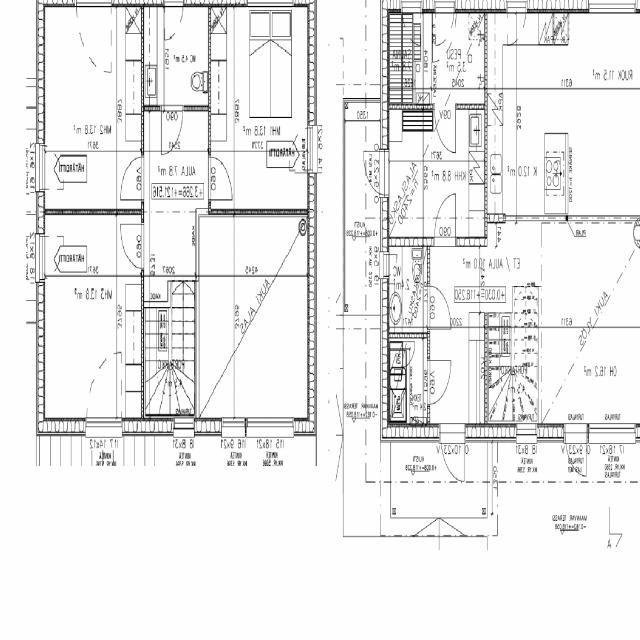door: (440, 424, 465, 494), (564, 423, 586, 487), (358, 150, 389, 195), (118, 223, 144, 269), (435, 193, 456, 247), (427, 360, 452, 404), (161, 106, 183, 156), (208, 156, 232, 200), (435, 103, 456, 153), (427, 285, 451, 328), (120, 156, 144, 199)
